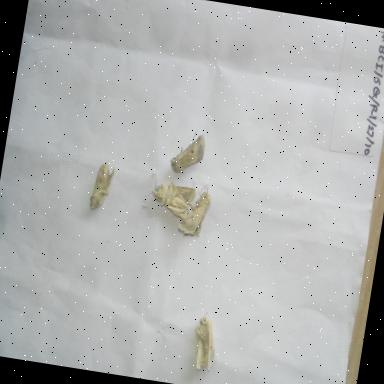abw: (184, 302, 230, 380), (172, 180, 221, 248), (138, 173, 198, 224), (164, 122, 210, 180), (84, 154, 120, 218)
